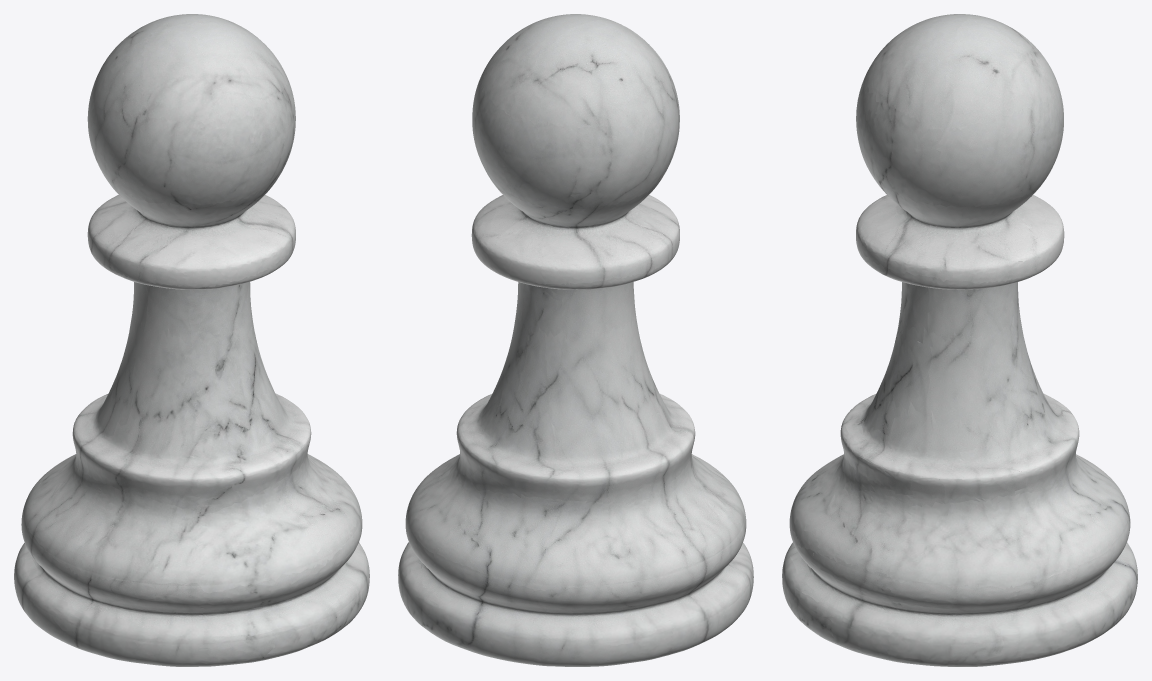
The model's file is pawn.glb.
3 views of the same model, side by side, from view 1: azimuth 30°, elevation 25°; view 2: azimuth 150°, elevation 25°; view 3: azimuth 270°, elevation 25° (orthographic).
Visible parts, largest first — view 1: Mesh_0; view 2: Mesh_0; view 3: Mesh_0.
Part boxes in pixels (x1=…): Mesh_0: x1=14, y1=14, x2=369, y2=666; Mesh_0: x1=398, y1=14, x2=753, y2=666; Mesh_0: x1=782, y1=14, x2=1137, y2=666.
Size of the model in its own units: 1.07 by 1.9 by 1.07.
1 material, 1 textured.
